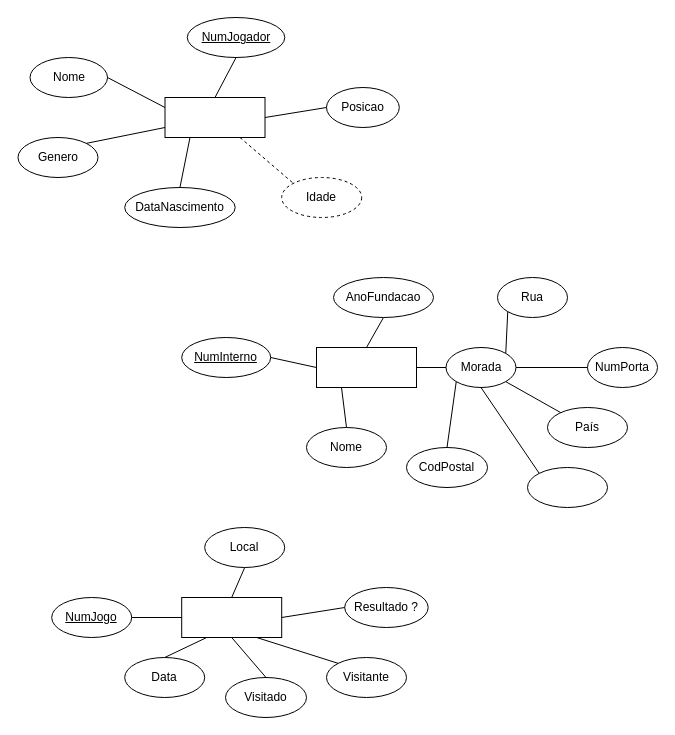
Image size: 675x735. Some labels were removed from this diagram. The centre of each missing label's shape, as x and y in pixels:
EQUIPA: pixel 366 367
JOGADOR: pixel 214 117
JOGO: pixel 231 617
Localidade: pixel 567 487
